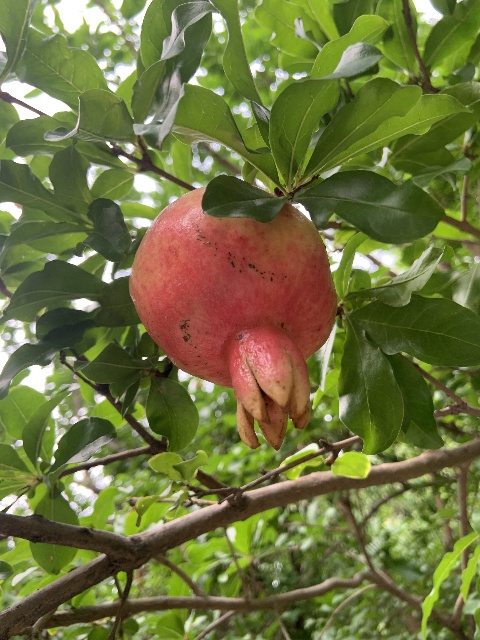ripe: (129, 185, 337, 452)
